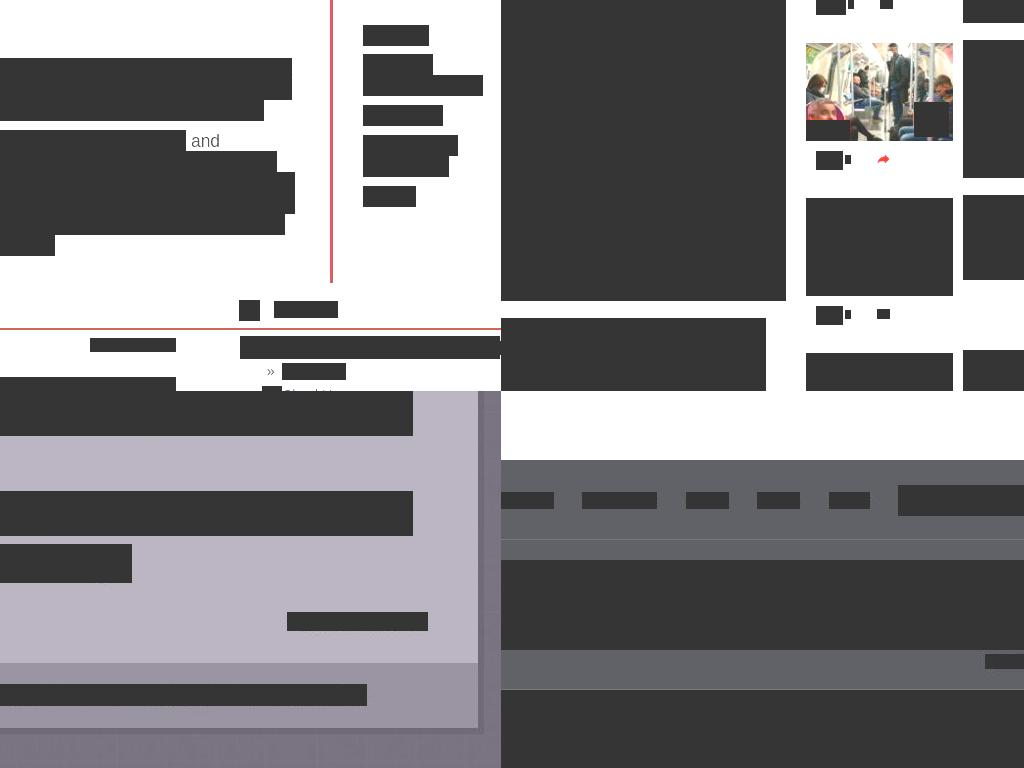button: (501, 0, 786, 301), (501, 318, 766, 391), (806, 43, 953, 141), (806, 198, 953, 296), (806, 353, 953, 391), (963, 40, 1024, 125), (963, 195, 1024, 280), (898, 485, 1024, 516), (963, 350, 1024, 391), (985, 654, 1024, 669), (816, 151, 843, 167), (816, 306, 843, 322), (816, 0, 846, 12)
heading: (963, 43, 1024, 178), (963, 198, 1024, 333), (963, 353, 1024, 391)
iframe: (501, 560, 1024, 650)
image: (501, 0, 786, 301), (501, 690, 1024, 768), (806, 43, 953, 141), (806, 198, 953, 296), (806, 353, 953, 391), (985, 654, 1024, 669), (239, 300, 260, 321), (877, 154, 890, 164), (877, 309, 890, 319), (880, 0, 893, 9), (1012, 497, 1024, 504), (848, 0, 854, 9), (845, 155, 851, 164), (845, 310, 851, 319)
link: (501, 318, 752, 374), (0, 172, 295, 214), (0, 58, 292, 100), (963, 40, 1024, 124), (963, 195, 1024, 279), (28, 130, 187, 151), (369, 75, 477, 96), (363, 135, 458, 156), (363, 105, 443, 126), (369, 156, 443, 177), (363, 54, 433, 75), (963, 367, 1024, 391), (363, 25, 429, 46), (363, 186, 416, 207), (93, 338, 171, 352), (282, 363, 346, 380), (0, 214, 42, 235), (0, 377, 30, 391), (282, 386, 353, 391), (486, 341, 501, 355)
text: (0, 391, 413, 436), (0, 491, 413, 536), (0, 151, 277, 193), (0, 79, 264, 121), (240, 336, 500, 359), (0, 544, 132, 583), (41, 214, 285, 235), (0, 58, 213, 79), (0, 193, 213, 214), (0, 684, 152, 706), (218, 684, 367, 706), (287, 612, 399, 631), (898, 492, 1003, 509), (151, 684, 219, 706), (582, 492, 657, 509), (914, 102, 949, 137), (0, 235, 55, 256), (274, 301, 338, 318), (806, 120, 850, 141), (501, 492, 554, 509), (186, 130, 221, 151), (686, 492, 729, 509), (757, 492, 800, 509), (829, 492, 870, 509), (399, 612, 428, 631), (816, 153, 843, 170), (816, 308, 843, 325), (816, 0, 846, 15), (262, 363, 282, 380), (363, 75, 370, 96), (476, 75, 483, 96), (363, 156, 370, 177), (442, 156, 449, 177), (262, 386, 282, 391), (90, 338, 95, 352), (171, 338, 176, 352)
